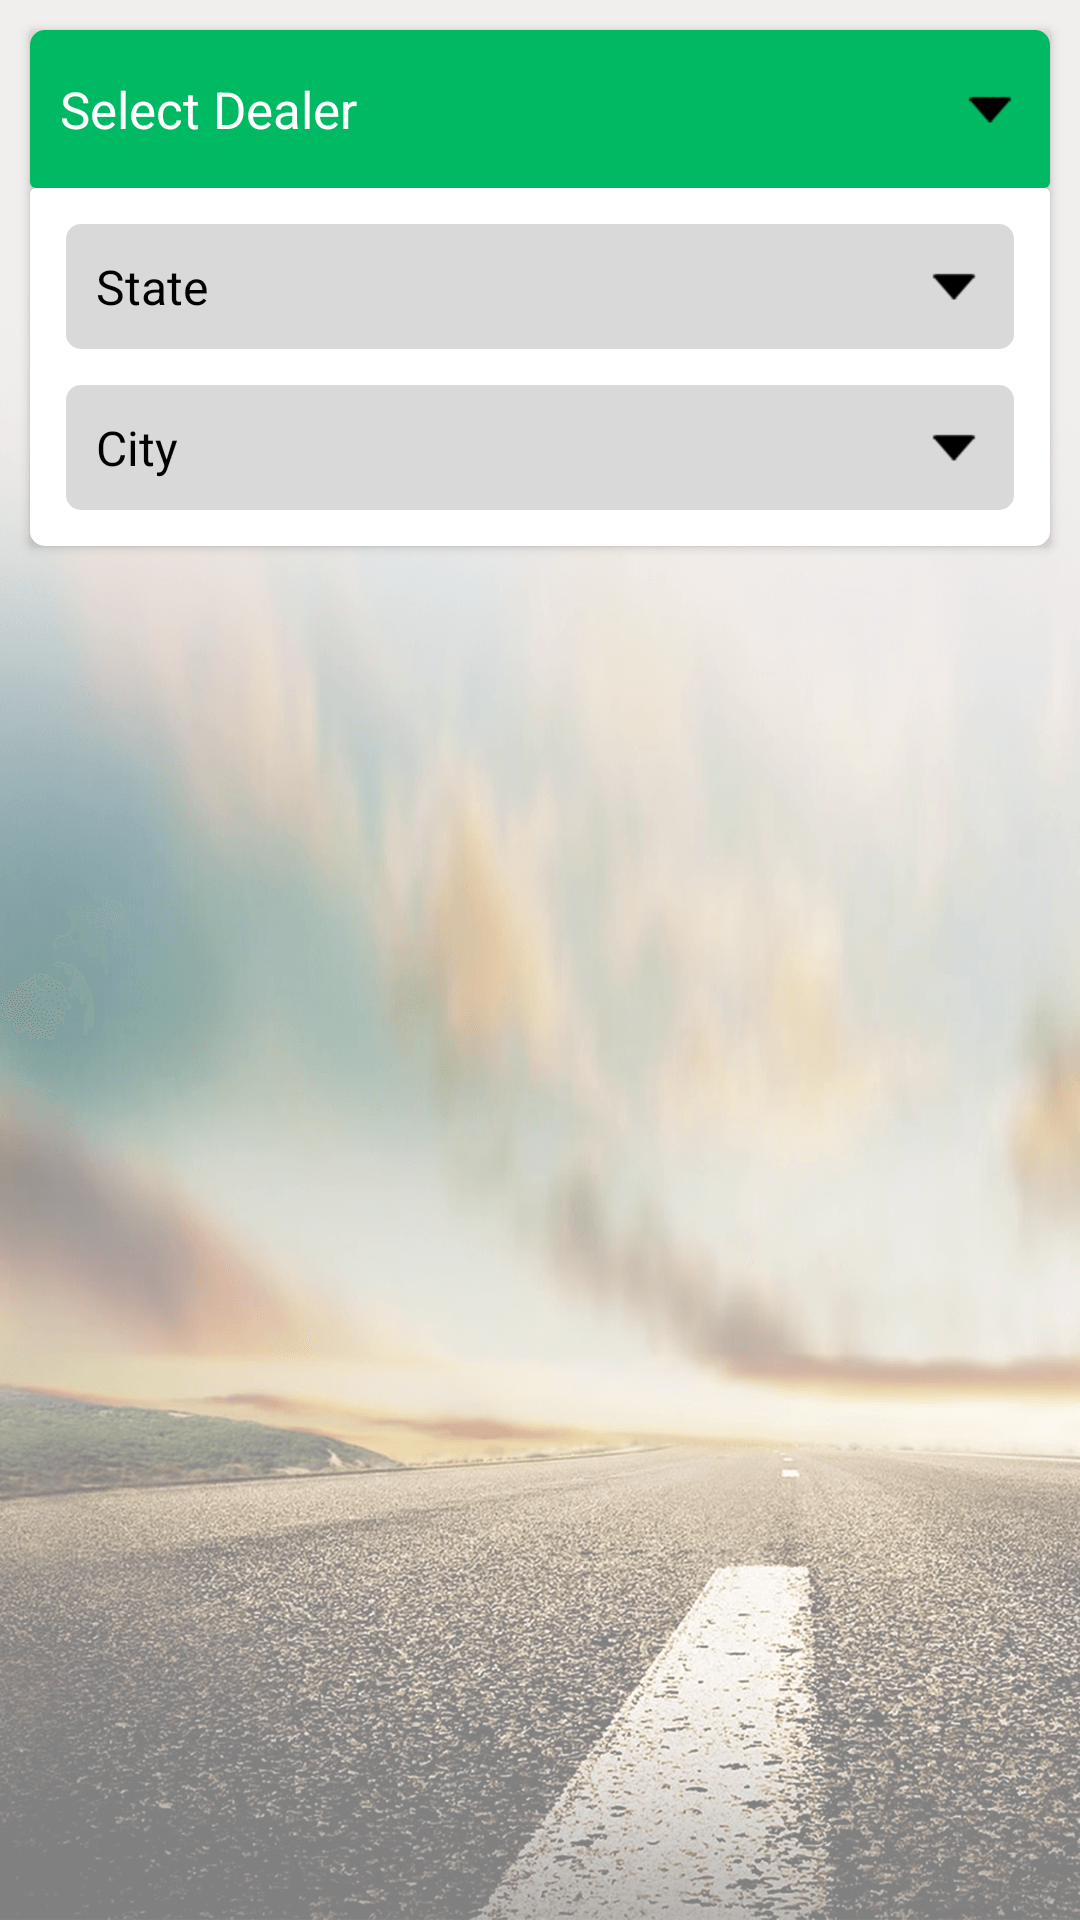

Locate icon controls on the screen. Image size 1080x1920, boxes as (x1, y1, x2, y2).
arrow down: (969, 96, 1011, 123), (932, 273, 976, 300), (932, 434, 976, 461)
